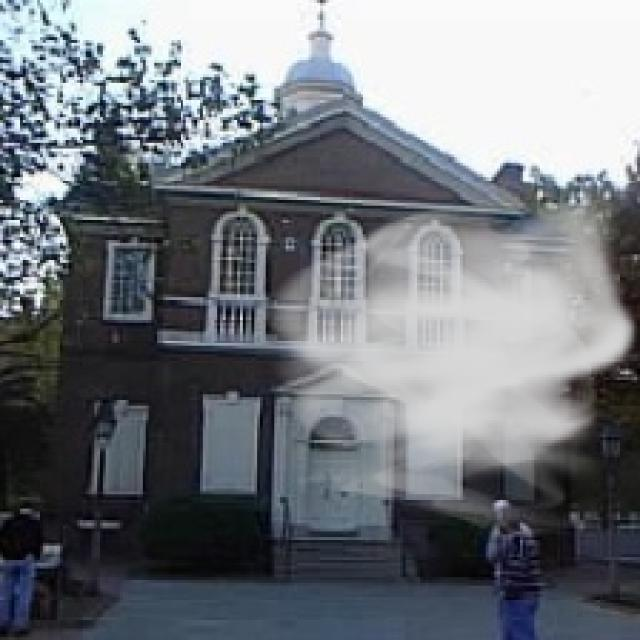smoke: (257, 191, 637, 540)
